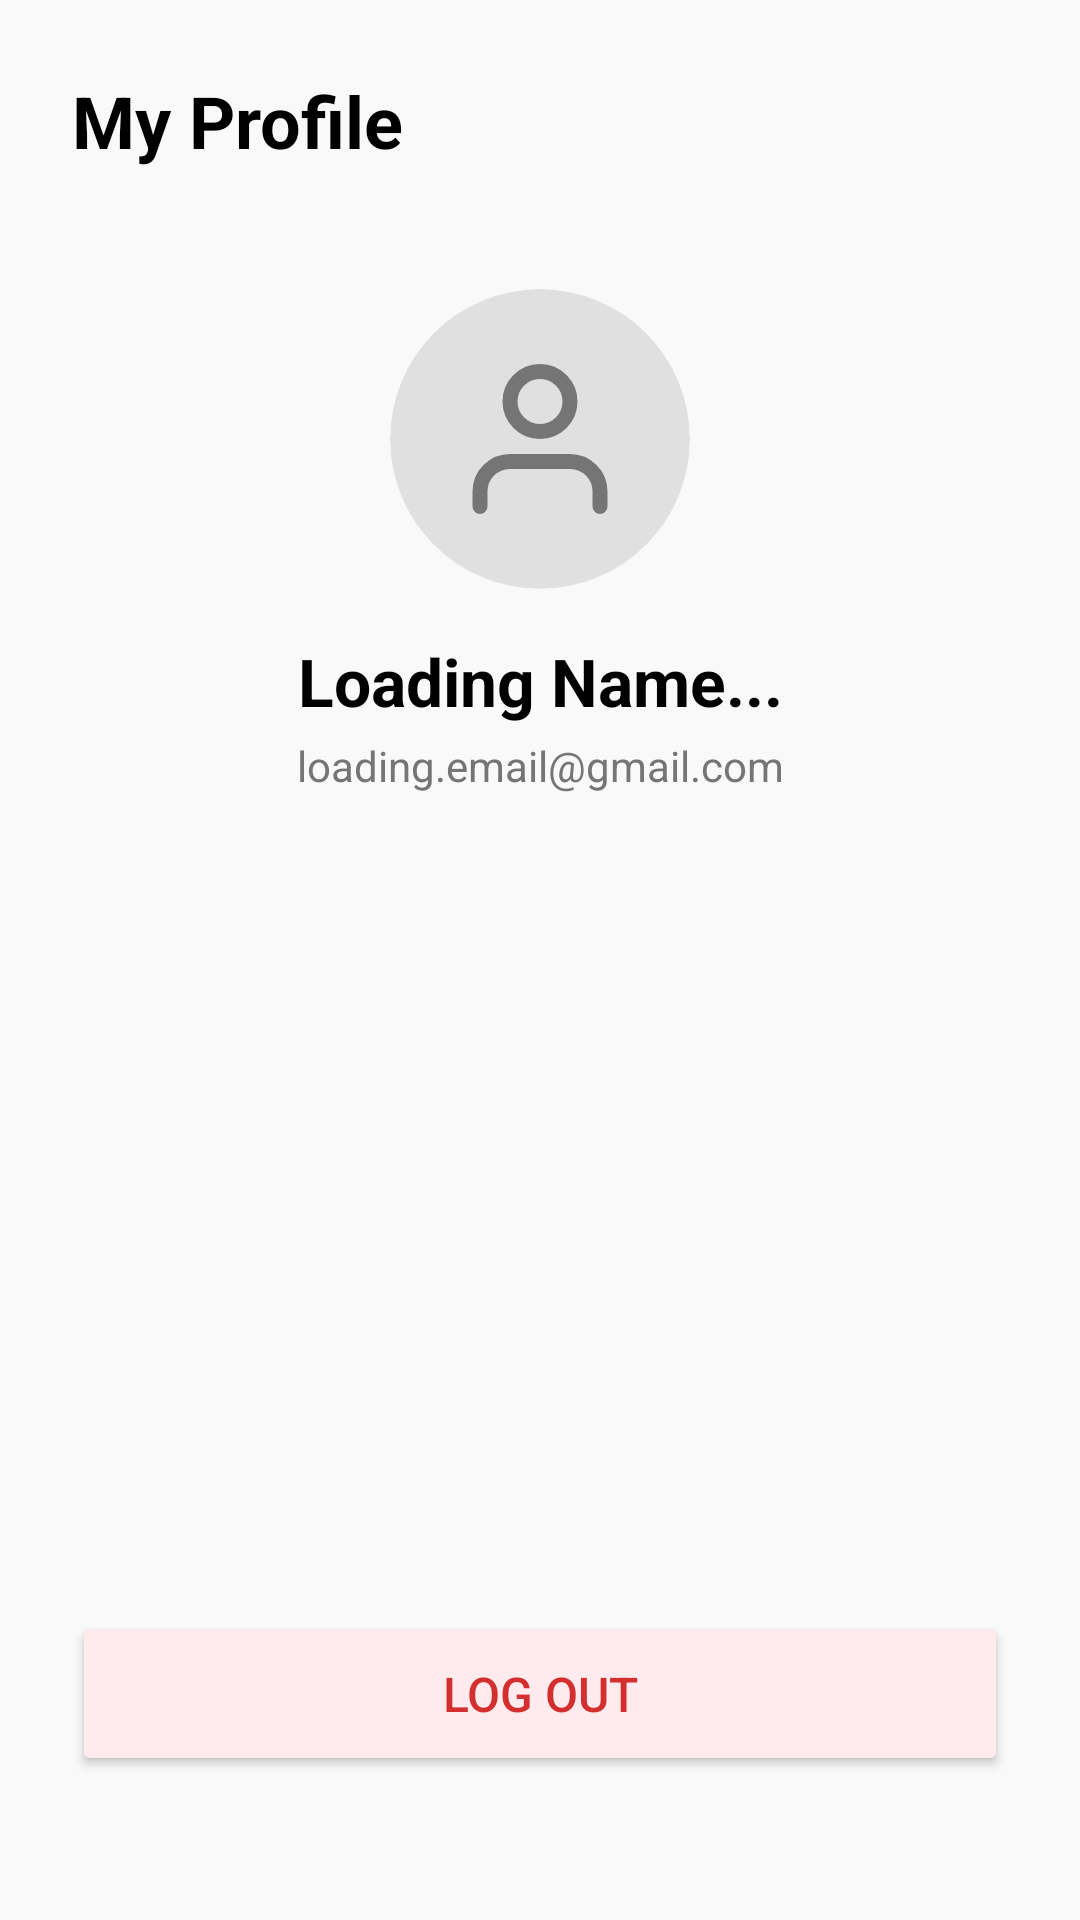

Icon bounding boxes for this 1080px x 1920px phone screenshot, format (x1=x1, y1=y1, x2=x2, y2=y2):
user: (x1=391, y1=289, x2=689, y2=588)
